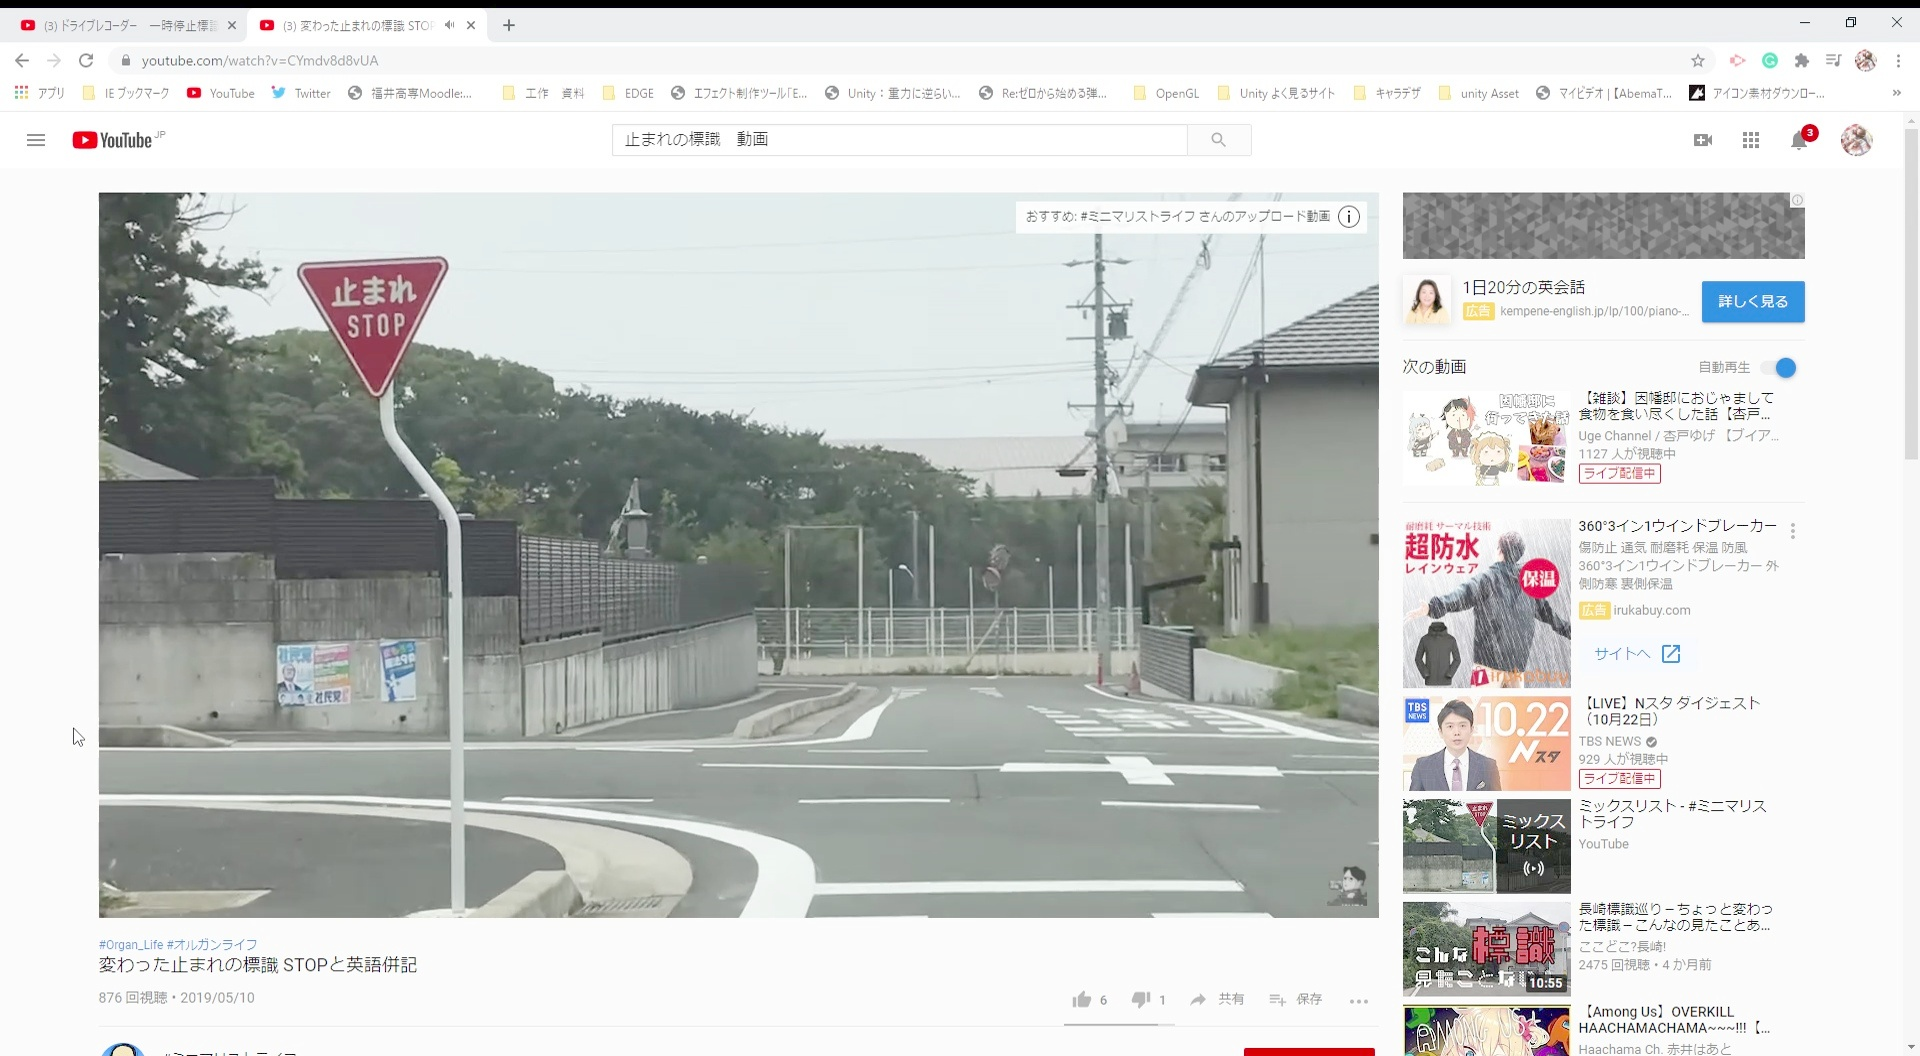Regulatory_sign_triangle: (291, 243, 471, 421)
